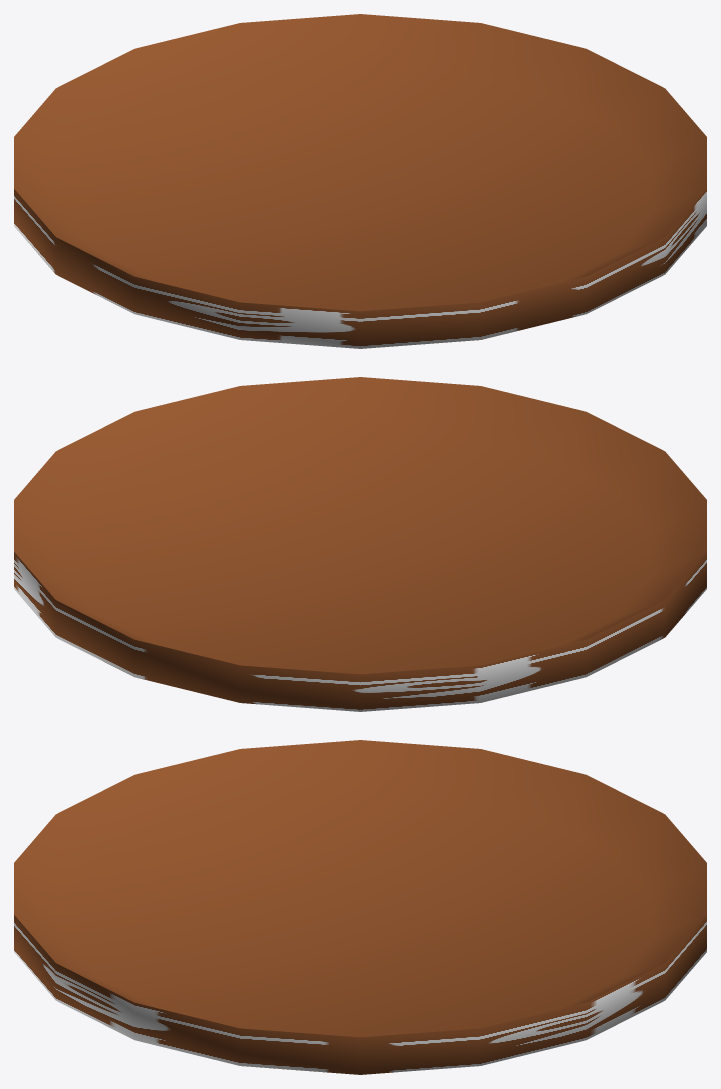
The model's file is karisu.FBX.
3 renders of one model, top to bottom at view 1: azimuth 30°, elevation 25°; view 2: azimuth 150°, elevation 25°; view 3: azimuth 270°, elevation 25°, orthographic.
Visible parts, largest first — view 1: Cylinder001; view 2: Cylinder001; view 3: Cylinder001.
Part boxes in pixels (x1,y1,x2,y2): Cylinder001: [14, 14, 706, 348]; Cylinder001: [14, 377, 706, 711]; Cylinder001: [14, 740, 706, 1074].
Size of the model in its own units: 113 by 111 by 17.67.
Materials: 1 (1 with a texture image).
